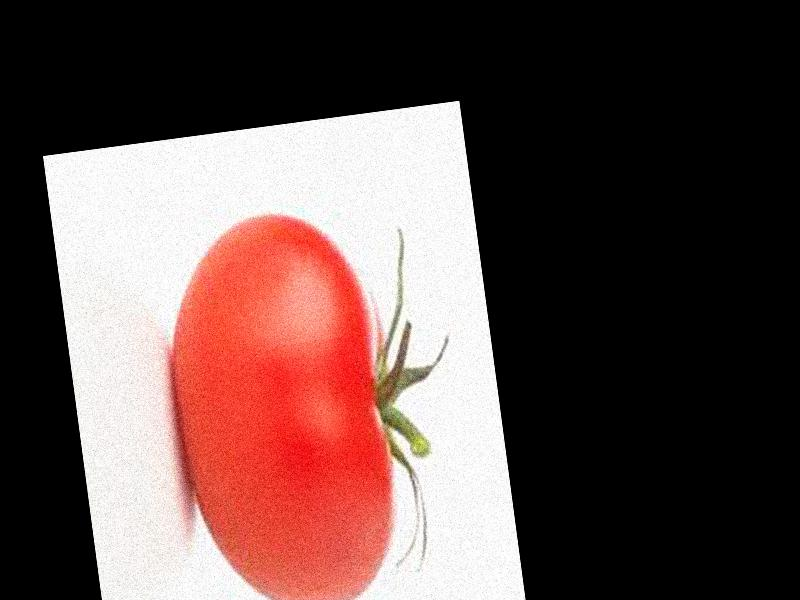Tomato: (154, 202, 410, 600)
